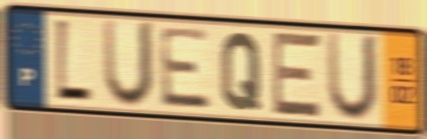E: (157, 25, 214, 113), (270, 29, 324, 121)
L: (52, 15, 95, 108)
Q: (219, 30, 264, 114)
U: (100, 16, 158, 113), (324, 29, 382, 126)
